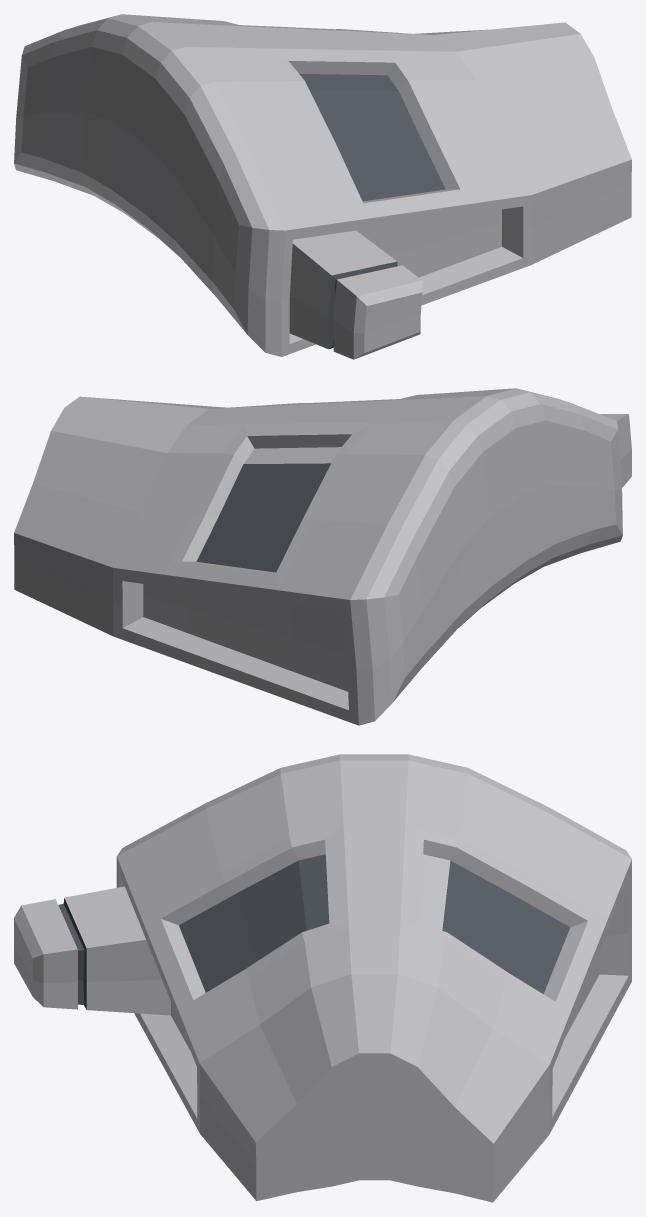
The model's file is Fighter_05_Side_Mount_Left.fbx.
The picture shows the model from 3 angles, top to bottom: view 1: azimuth 30°, elevation 25°; view 2: azimuth 150°, elevation 25°; view 3: azimuth 270°, elevation 25°; orthographic projection. The views are drawn at different scales.
Parts seen in each view (by area): view 1: Fighter_05_Side_Mount_Left; view 2: Fighter_05_Side_Mount_Left; view 3: Fighter_05_Side_Mount_Left.
Boxes of the visible parts, bbox=[...] form: Fighter_05_Side_Mount_Left: bbox=[14, 14, 631, 359]; Fighter_05_Side_Mount_Left: bbox=[14, 388, 631, 725]; Fighter_05_Side_Mount_Left: bbox=[14, 754, 631, 1202].
Size of the model in its own units: 402 by 206 by 477.
2 materials, 2 textured.
